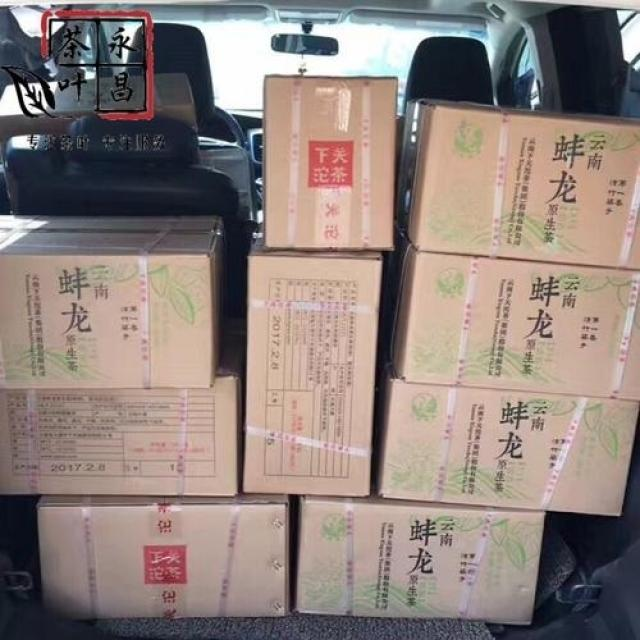box: (393, 229, 639, 399), (398, 99, 640, 269), (378, 362, 639, 515), (0, 215, 224, 389), (243, 224, 383, 494), (37, 493, 292, 620), (297, 497, 547, 625), (0, 375, 242, 495), (265, 76, 399, 250)
